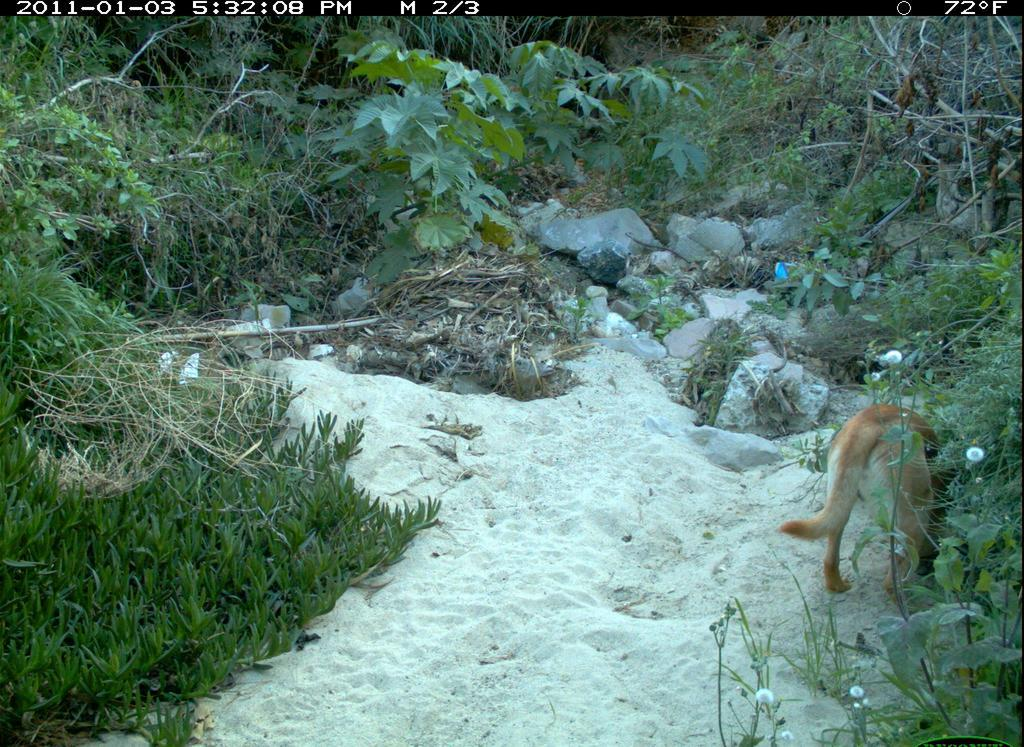dog: (772, 372, 978, 620)
